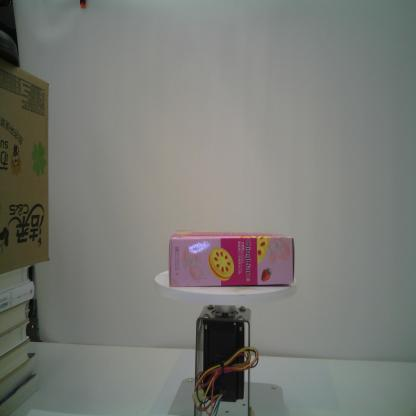Dessert: (167, 230, 296, 286)
